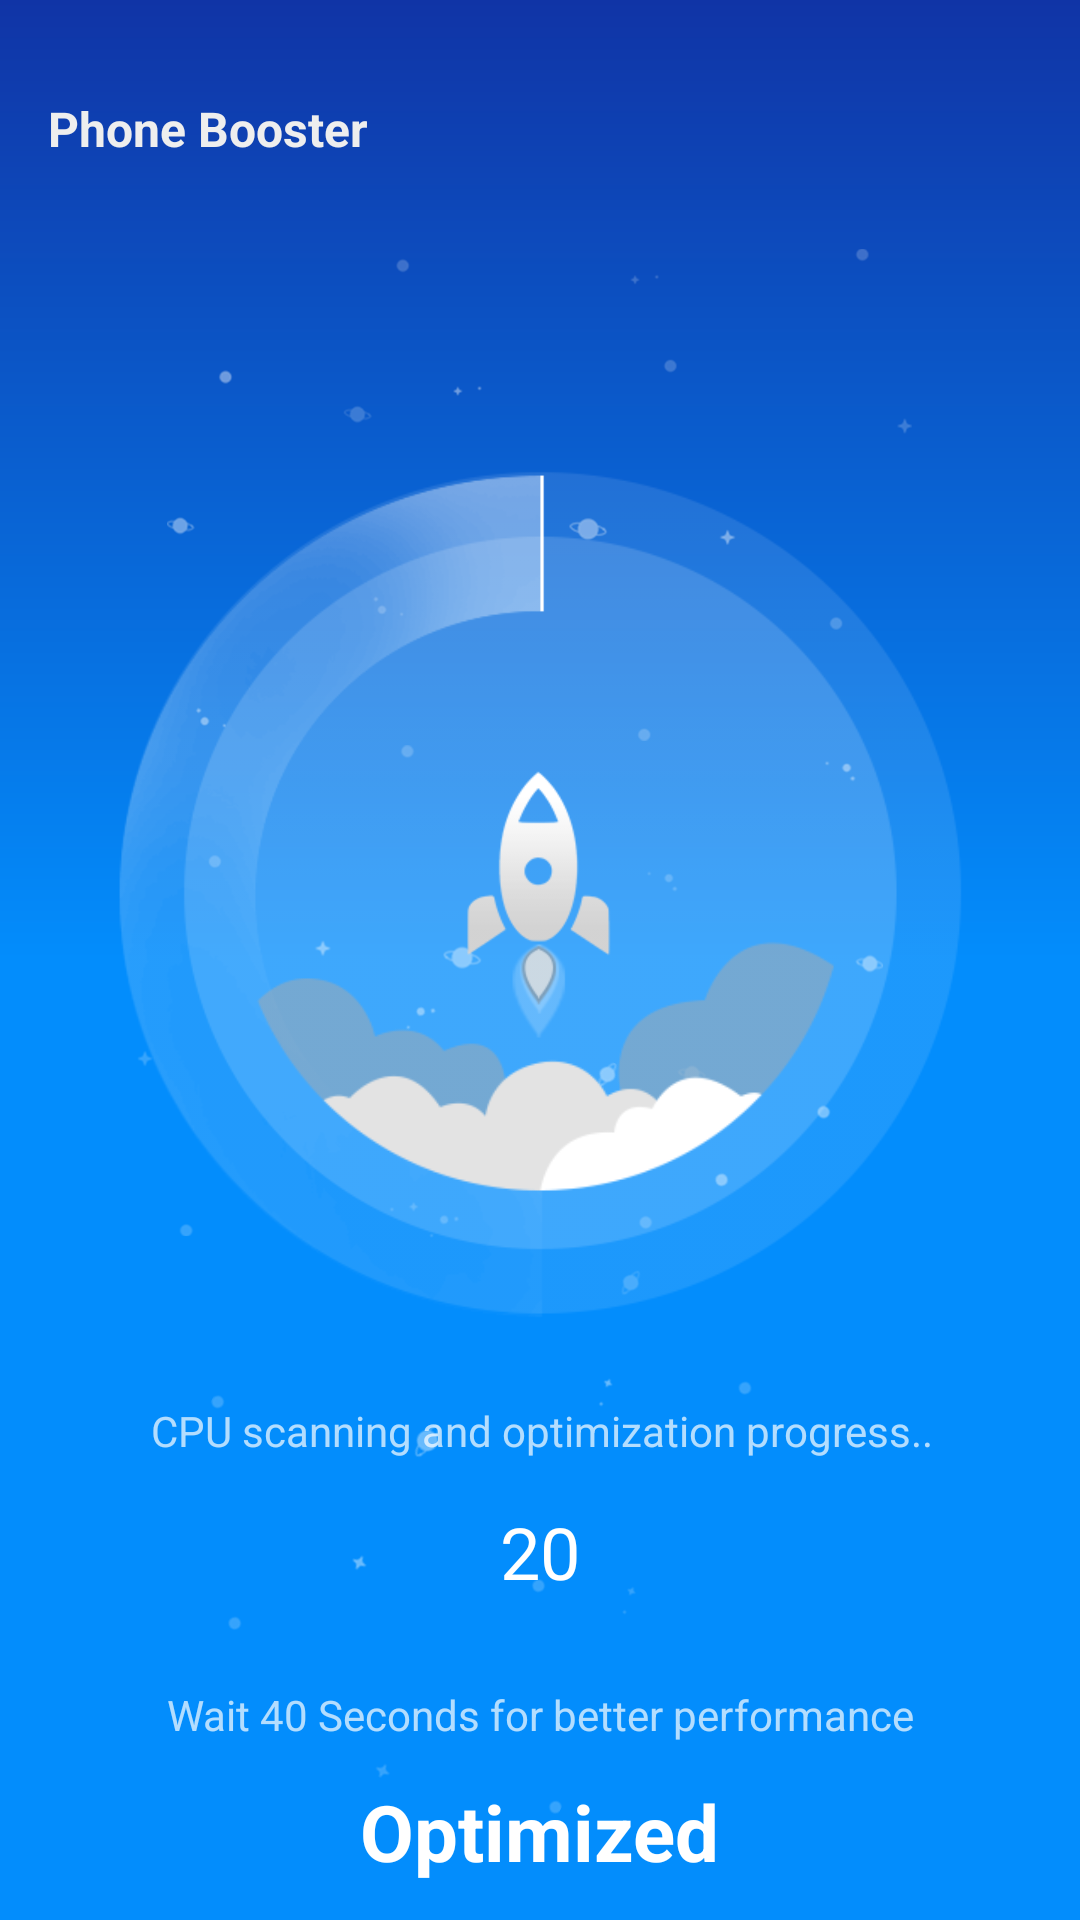

Screen size 1080px×1920px. Icon name, then its center in pixels as [x,y]:
rocket: [539,906]
